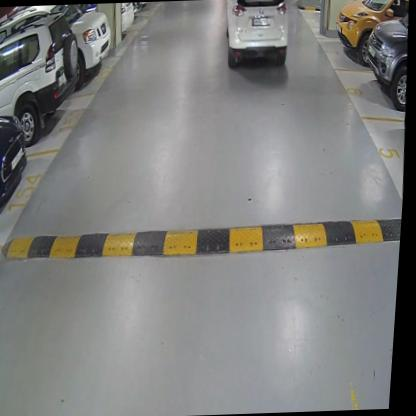np: (251, 16, 271, 26)
